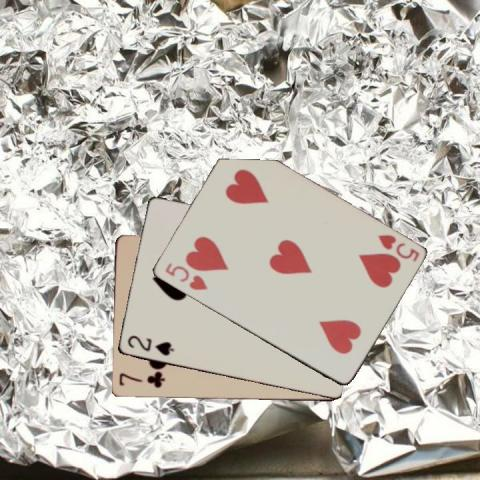2s: (124, 332, 175, 357)
5h: (161, 259, 209, 292), (374, 231, 421, 264)
7c: (116, 371, 166, 389)
